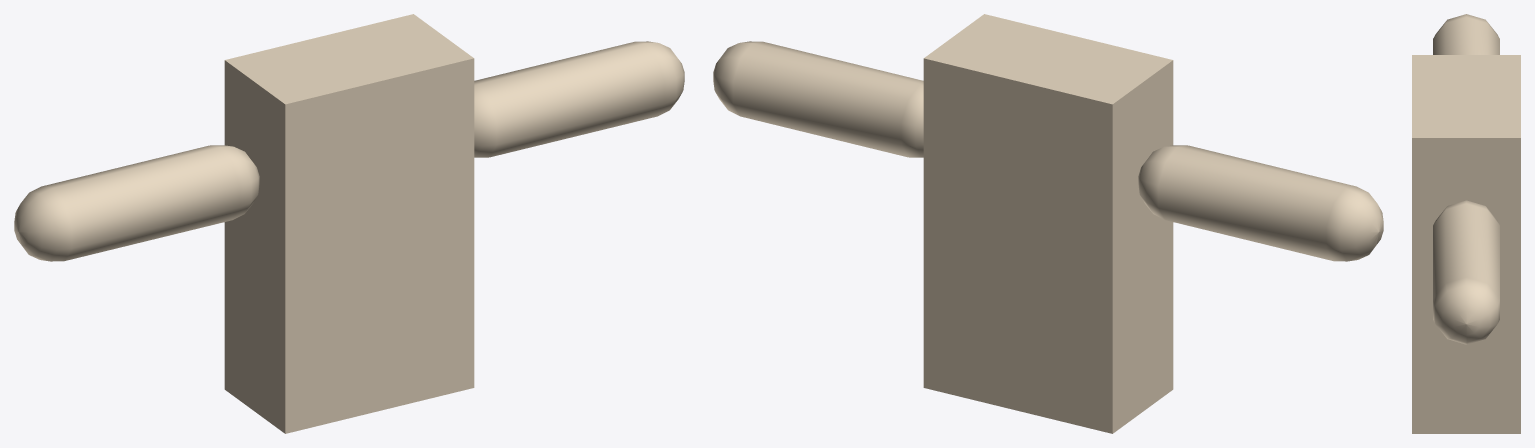
File: beige-coat.glb
3 renders of one model, left to right at view 1: azimuth 30°, elevation 25°; view 2: azimuth 150°, elevation 25°; view 3: azimuth 270°, elevation 25°, orthographic. The views are drawn at different scales.
Visible parts, largest first — view 1: beige_coat_torso, beige_coat_sleeve_L, beige_coat_sleeve_R; view 2: beige_coat_torso, beige_coat_sleeve_L, beige_coat_sleeve_R; view 3: beige_coat_torso, beige_coat_sleeve_R, beige_coat_sleeve_L.
Part boxes in pixels (left/top/right/bottom): beige_coat_torso: left=224, top=14, right=474, bottom=433; beige_coat_sleeve_L: left=14, top=145, right=259, bottom=261; beige_coat_sleeve_R: left=474, top=41, right=684, bottom=157; beige_coat_torso: left=923, top=14, right=1173, bottom=433; beige_coat_sleeve_L: left=1138, top=145, right=1383, bottom=261; beige_coat_sleeve_R: left=713, top=41, right=923, bottom=157; beige_coat_torso: left=1412, top=55, right=1520, bottom=433; beige_coat_sleeve_R: left=1433, top=200, right=1499, bottom=344; beige_coat_sleeve_L: left=1433, top=14, right=1499, bottom=54.
Bounding box in the file's own units: 1.26 × 0.6 × 0.2.
